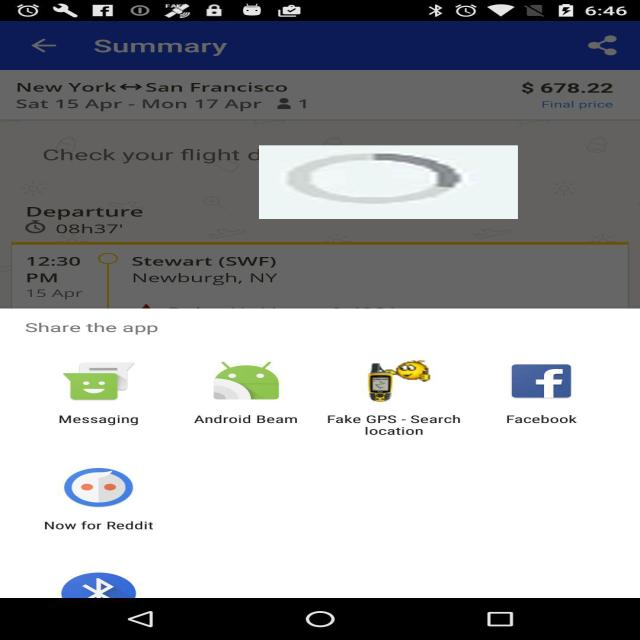misdirection: (259, 145, 518, 219)
